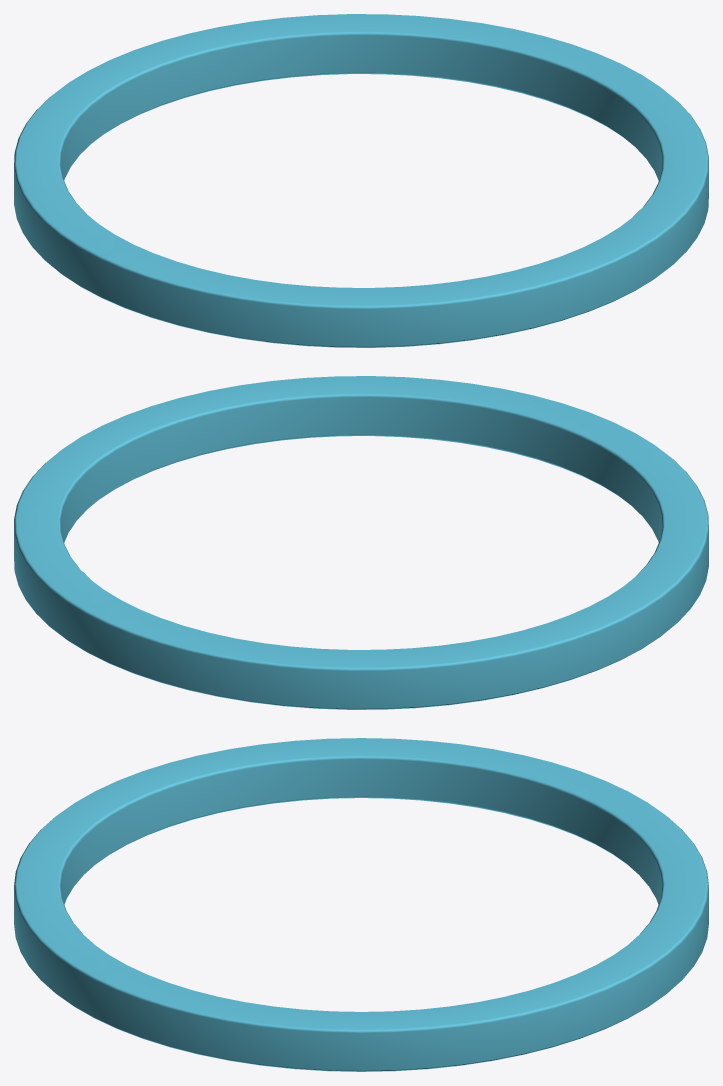
The picture shows the model from 3 angles, top to bottom: view 1: azimuth 30°, elevation 25°; view 2: azimuth 150°, elevation 25°; view 3: azimuth 270°, elevation 25°; orthographic projection.
Parts seen in each view (by area): view 1: seal_body; view 2: seal_body; view 3: seal_body.
Boxes of the visible parts, x1,y1,x2,y2 form: seal_body: (14,14,708,347); seal_body: (14,376,708,709); seal_body: (14,738,708,1071).
Bounding box in the file's own units: 0.1174 × 0.00793 × 0.1174.
